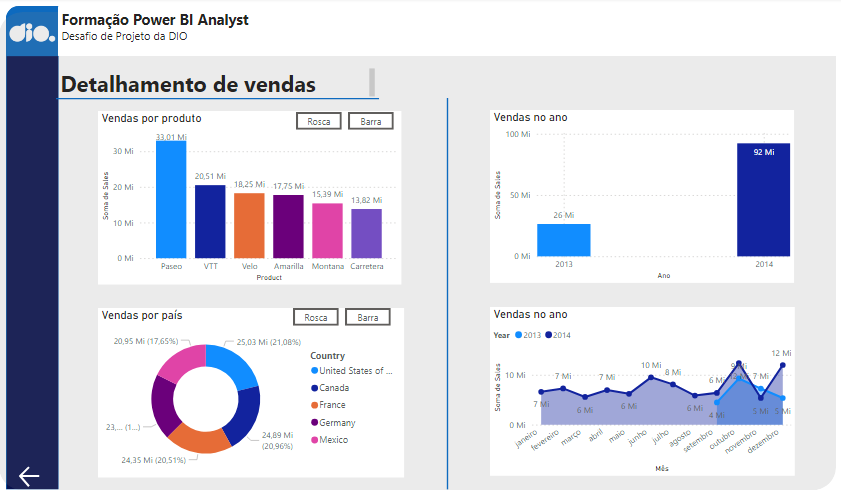

The page's visual inventory and layout, read from the dashboard file:
{"tool":"powerbi","page":{"name":"Página 3","canvas":[1280,720],"ordinal":2},"visuals":[{"type":"shape","box":[10.1,13.4,77.2,706.3],"z":0},{"type":"shape","box":[83.9,127.8,473,37.1],"z":0,"group":"g1"},{"type":"shape","box":[10,11.8,77.3,73.6],"z":1000},{"type":"textbox","box":[85.3,97.6,470.2,52.2],"z":1000,"group":"g1"},{"type":"image","title":"logo_dio","box":[10.1,18.5,77.2,62.1],"z":2000},{"type":"shape","box":[0,20,1225,700],"z":3000},{"type":"shape","title":"Fundo do Título","box":[86.7,11.7,1193.3,73.3],"z":4000},{"type":"textbox","box":[86.7,11.7,325,66.7],"z":5000},{"type":"actionButton","box":[25,680,61.7,40],"z":6000},{"type":"group","id":"g1","title":"Sales report","box":[83.9,97.6,473,67.4],"z":7000},{"type":"shape","box":[506.7,146.7,300,573.3],"z":8000},{"type":"lineChart","title":"Vendas no ano","fields":{"Category":["financials.Date.Variation.Hierarquia de datas.Ano","financials.Date.Variation.Hierarquia de datas.Trimestre","financials.Date.Variation.Hierarquia de datas.Mês","financials.Date.Variation.Hierarquia de datas.Dia"],"Y":["Sum(financials. Sales)"],"Series":["financials.Year"]},"box":[718.5,452.2,446.3,247.3],"z":11000},{"type":"columnChart","title":"Vendas no ano","fields":{"Category":["financials.Date.Variation.Hierarquia de datas.Ano","financials.Date.Variation.Hierarquia de datas.Trimestre","financials.Date.Variation.Hierarquia de datas.Mês","financials.Date.Variation.Hierarquia de datas.Dia"],"Y":["Sum(financials. Sales)"]},"box":[718.5,163.9,444.9,253.2],"z":12000},{"type":"group","id":"g2","title":"Grupo vendas por país","box":[145,451.7,448.3,248.3],"z":12500},{"type":"group","id":"g3","title":"Grupo vendas por produto","box":[145.6,165.6,445.9,254.4],"z":13000},{"type":"columnChart","title":"Vendas por produto","fields":{"Y":["Sum(financials. Sales)"],"Category":["financials.Product"]},"box":[145.6,165.6,444.4,254.4],"z":13250,"group":"g3"},{"type":"actionButton","title":"Botão rosca produtos","box":[435,167,67,26],"z":13500,"group":"g3"},{"type":"actionButton","title":"Botão barra produto","box":[512,167,67,26],"z":13750,"group":"g3"},{"type":"columnChart","title":"Vendas por país","fields":{"Category":["financials.Country"],"Y":["Sum(financials. Sales)"]},"box":[145,451.7,448.3,246.7],"z":14500,"group":"g2"},{"type":"actionButton","title":"Botão rosca país","box":[430,453,67,26],"z":15000,"group":"g2"},{"type":"actionButton","title":"Botão barra país","box":[507,453,67,26],"z":16000,"group":"g2"}]}

Visuals, with their boxes on the page's 1280x720 design canvas (x1, y1, x2, y2). These are canvas units, not pixel positions in the 841x490 screenshot, which may show the page scaled, cropped or inside an application window:
shape: select_region(10, 13, 87, 720)
shape: select_region(84, 128, 557, 165)
shape: select_region(10, 12, 87, 85)
textbox: select_region(85, 98, 556, 150)
"logo_dio" image: select_region(10, 18, 87, 81)
shape: select_region(0, 20, 1225, 720)
"Fundo do Título" shape: select_region(87, 12, 1280, 85)
textbox: select_region(87, 12, 412, 78)
actionButton: select_region(25, 680, 87, 720)
"Sales report" group: select_region(84, 98, 557, 165)
shape: select_region(507, 147, 807, 720)
"Vendas no ano" lineChart: select_region(718, 452, 1165, 700)
"Vendas no ano" columnChart: select_region(718, 164, 1163, 417)
"Grupo vendas por país" group: select_region(145, 452, 593, 700)
"Grupo vendas por produto" group: select_region(146, 166, 592, 420)
"Vendas por produto" columnChart: select_region(146, 166, 590, 420)
"Botão rosca produtos" actionButton: select_region(435, 167, 502, 193)
"Botão barra produto" actionButton: select_region(512, 167, 579, 193)
"Vendas por país" columnChart: select_region(145, 452, 593, 698)
"Botão rosca país" actionButton: select_region(430, 453, 497, 479)
"Botão barra país" actionButton: select_region(507, 453, 574, 479)
